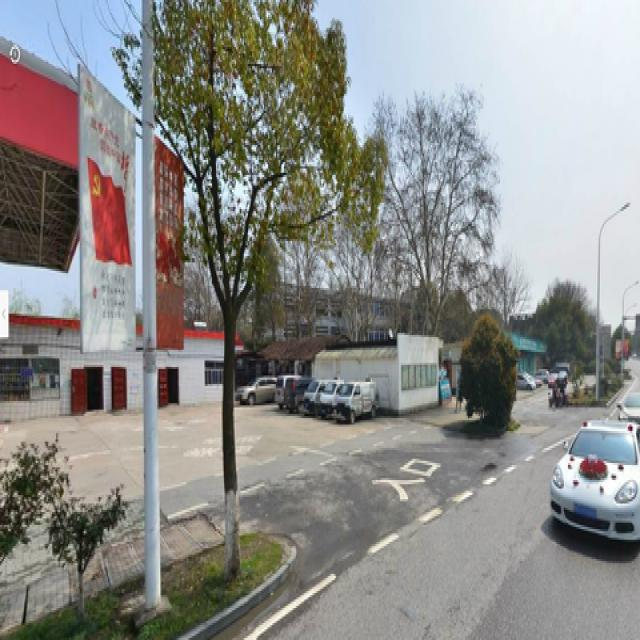cinn: (168, 23, 296, 544)
